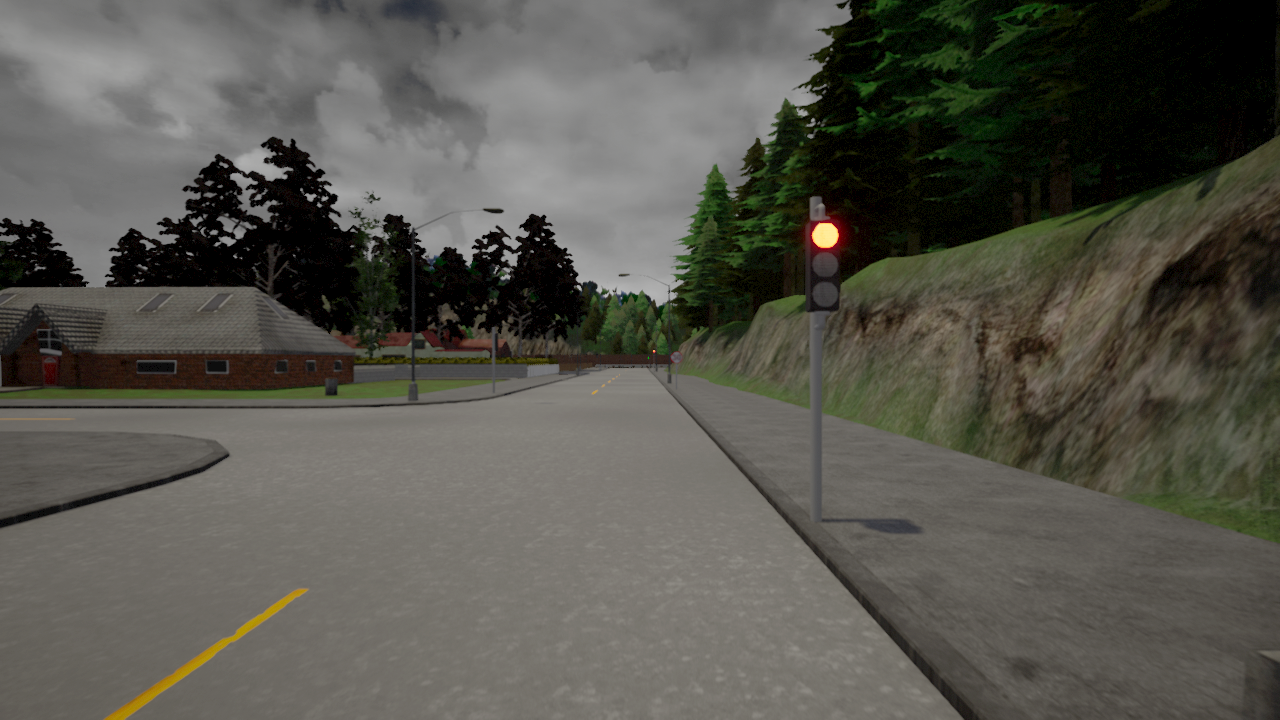red: (801, 215, 840, 313)
